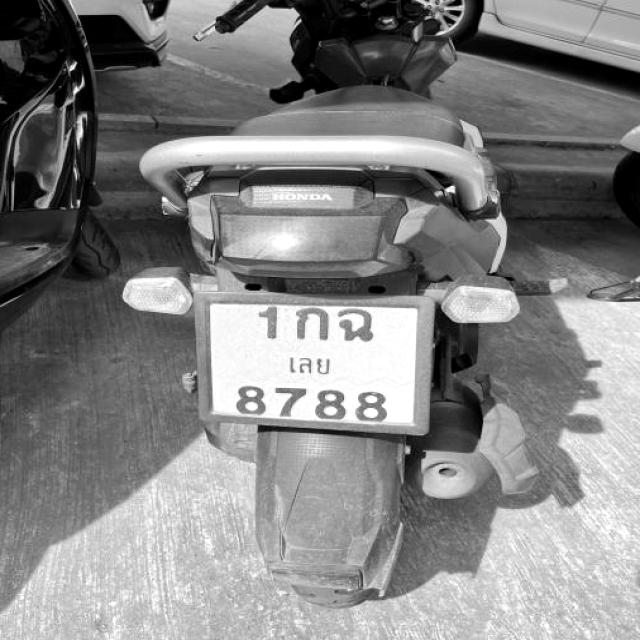letters: (294, 302, 334, 346), (232, 378, 268, 417), (339, 310, 374, 346), (274, 381, 304, 419), (357, 391, 392, 422), (320, 385, 348, 423), (256, 305, 284, 341)
license-plate: (201, 296, 430, 436)
province: (279, 348, 344, 384)
